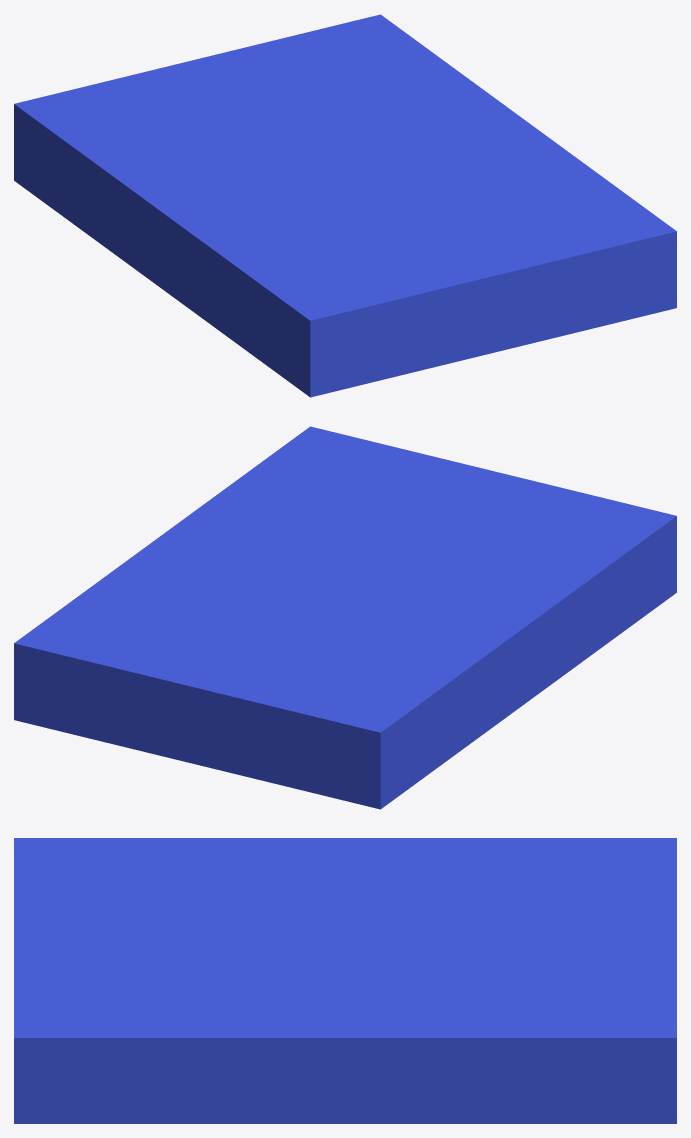
Rendered from IMU.glb.
3 renders of one model, top to bottom at view 1: azimuth 30°, elevation 25°; view 2: azimuth 150°, elevation 25°; view 3: azimuth 270°, elevation 25°, orthographic. The views are drawn at different scales.
Visible parts, largest first — view 1: IMU; view 2: IMU; view 3: IMU.
Boxes of the visible parts, x1,y1,x2,y2 form: IMU: (14, 14, 676, 397); IMU: (14, 426, 676, 809); IMU: (14, 838, 676, 1123).
Size of the model in its own units: 1.5 by 0.2991 by 2.09.
